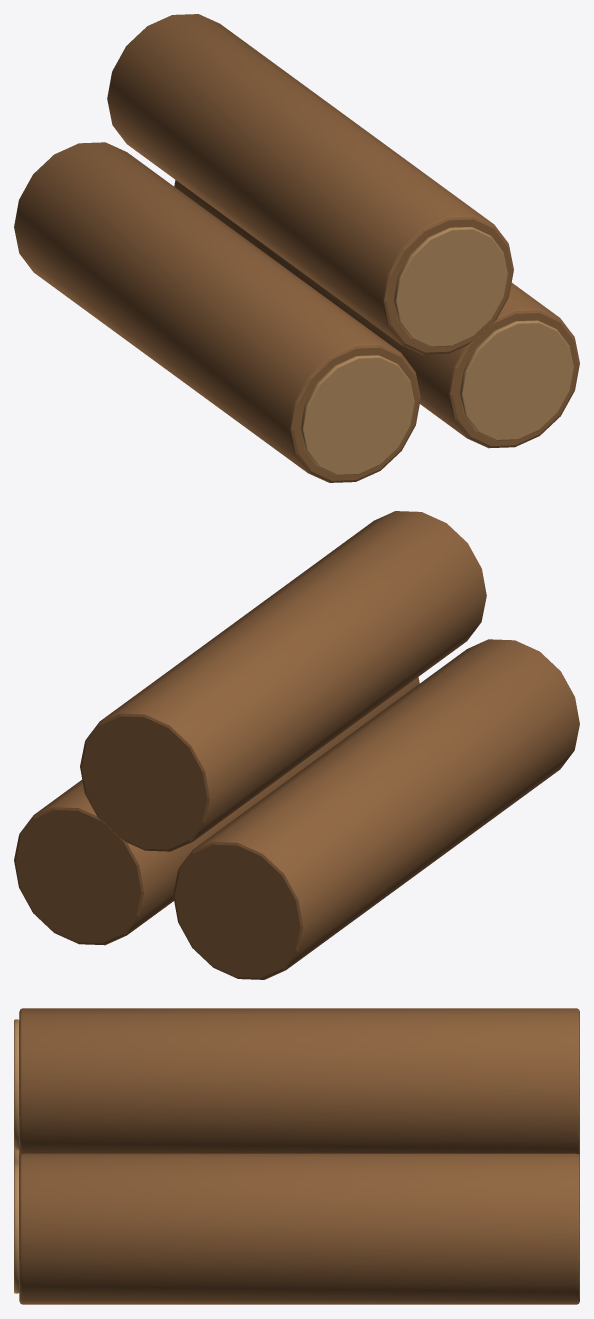
Rendered from SM_WoodLogPile.fbx.
3 renders of one model, top to bottom at view 1: azimuth 30°, elevation 25°; view 2: azimuth 150°, elevation 25°; view 3: azimuth 270°, elevation 25°, orthographic.
Visible parts, largest first — view 1: SM_WoodLogPile; view 2: SM_WoodLogPile; view 3: SM_WoodLogPile.
Boxes of the visible parts, bbox=[...] form: SM_WoodLogPile: bbox=[14, 14, 579, 482]; SM_WoodLogPile: bbox=[14, 511, 579, 979]; SM_WoodLogPile: bbox=[14, 1008, 579, 1304].
Size of what is drawn, in the model's own units: 0.75 by 1.25 by 0.61.
